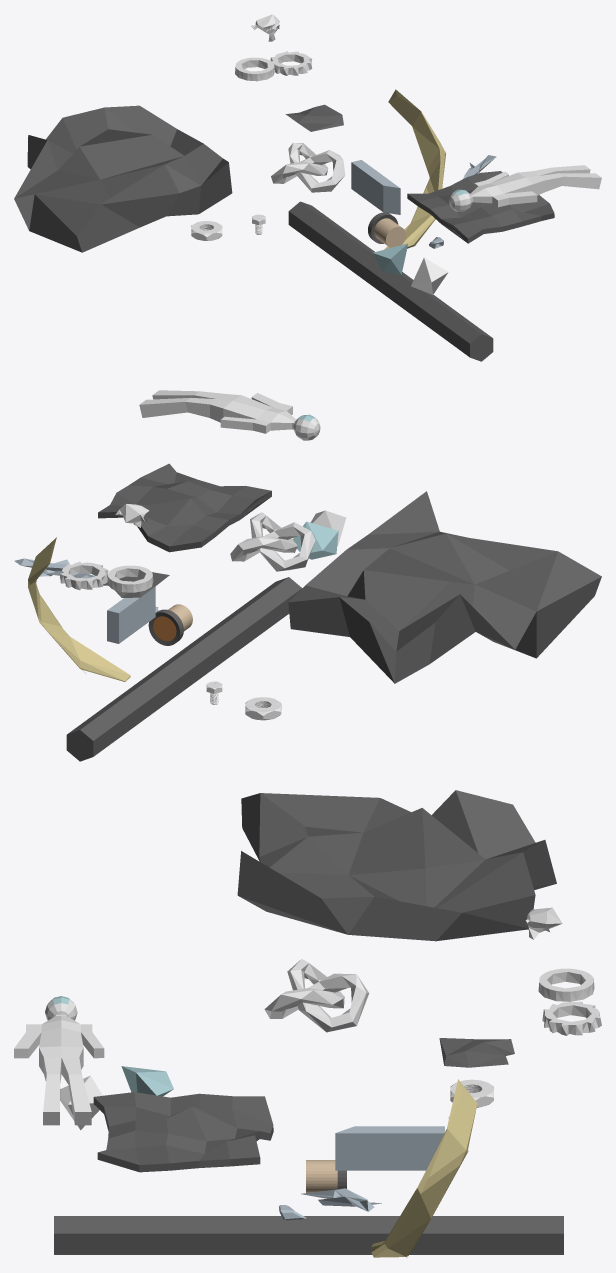
The model's file is debris.fbx.
The picture shows the model from 3 angles, top to bottom: view 1: azimuth 30°, elevation 25°; view 2: azimuth 150°, elevation 25°; view 3: azimuth 270°, elevation 25°; orthographic projection. The views are drawn at different scales.
Visible parts, largest first — view 1: Hull Plate 1.001, Cylinder, Hull Plate 1, Body, Shard 4, Torus Knot, Debris Cube 1, Engine Bit, Hull Plate 2, Shard 2, Gear 1, Gear 2 (+2 smaller); view 2: Hull Plate 1.001, Cylinder, Hull Plate 1, Body, Torus Knot, Shard 4, Debris Cube 1, Engine Bit, Gear 1, Gear 2, Shard 1, Nut (+3 smaller); view 3: Hull Plate 1.001, Cylinder, Hull Plate 1, Body, Shard 4, Debris Cube 1, Torus Knot, Hull Plate 2, Gear 1, Gear 2, Engine Bit, Shard 1 (+4 smaller).
Part boxes in pixels (left/top/right/bottom): Hull Plate 1.001: left=14, top=105, right=232, bottom=252; Cylinder: left=288, top=201, right=493, bottom=361; Hull Plate 1: left=407, top=171, right=554, bottom=243; Body: left=449, top=165, right=601, bottom=211; Shard 4: left=384, top=89, right=446, bottom=249; Torus Knot: left=271, top=142, right=345, bottom=192; Debris Cube 1: left=351, top=160, right=400, bottom=214; Engine Bit: left=368, top=212, right=406, bottom=247; Hull Plate 2: left=285, top=104, right=343, bottom=131; Shard 2: left=411, top=257, right=448, bottom=294; Gear 1: left=270, top=51, right=312, bottom=75; Gear 2: left=235, top=57, right=274, bottom=81; Hull Plate 1.001: left=288, top=491, right=601, bottom=683; Cylinder: left=66, top=577, right=302, bottom=761; Hull Plate 1: left=98, top=463, right=271, bottom=552; Body: left=139, top=390, right=320, bottom=440; Torus Knot: left=230, top=512, right=315, bottom=571; Shard 4: left=28, top=537, right=130, bottom=681; Debris Cube 1: left=107, top=586, right=155, bottom=643; Engine Bit: left=148, top=604, right=192, bottom=645; Gear 1: left=59, top=561, right=108, bottom=590; Gear 2: left=107, top=565, right=153, bottom=592; Shard 1: left=292, top=521, right=338, bottom=559; Nut: left=245, top=697, right=281, bottom=720; Hull Plate 1.001: left=237, top=790, right=556, bottom=941; Cylinder: left=54, top=1216, right=563, bottom=1254; Hull Plate 1: left=93, top=1092, right=273, bottom=1172; Body: left=14, top=996, right=104, bottom=1125; Shard 4: left=371, top=1079, right=477, bottom=1257; Debris Cube 1: left=335, top=1126, right=444, bottom=1170; Torus Knot: left=264, top=959, right=369, bottom=1032; Hull Plate 2: left=439, top=1038, right=514, bottom=1067; Gear 1: left=542, top=1001, right=601, bottom=1035; Gear 2: left=538, top=968, right=594, bottom=1001; Engine Bit: left=306, top=1160, right=346, bottom=1192; Shard 1: left=121, top=1066, right=173, bottom=1096.
Bounding box in the file's own units: 584 × 273 × 454.
